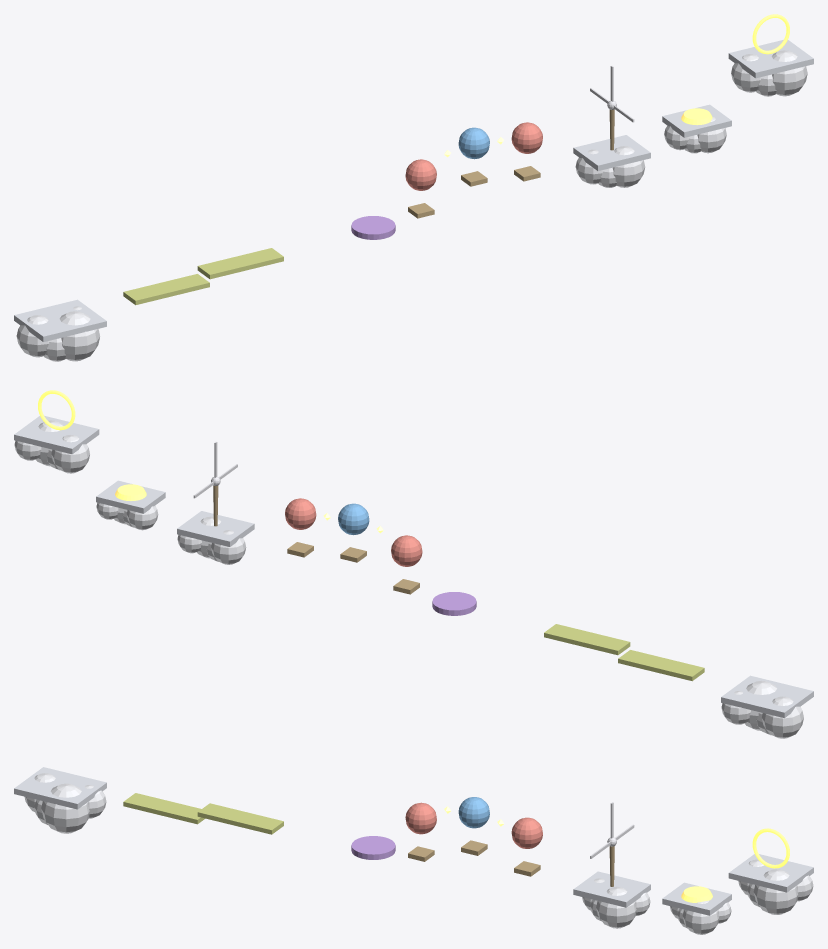
File: himmelspfad_stage.glb
3 renders of one model, top to bottom at view 1: azimuth 30°, elevation 25°; view 2: azimuth 150°, elevation 25°; view 3: azimuth 330°, elevation 25°, orthographic.
Parts seen in each view (by area): view 1: SkyStartBlob, SkyZielBlob, SkyStart, SkyZiel, SkyWindBlob, SkyWind, SkyKarussell1, SkyKarussell2, SkyPadBlob, SkyBallon2, SkyBallon1, SkyBallon3 (+2 smaller); view 2: SkyStartBlob, SkyStart, SkyZiel, SkyZielBlob, SkyWind, SkyWindBlob, SkyKarussell1, SkyKarussell2, SkyBallon2, SkyBallon3, SkyBallon1, SkyPad (+2 smaller); view 3: SkyStartBlob, SkyStart, SkyZielBlob, SkyZiel, SkyWind, SkyWindBlob, SkyKarussell2, SkyKarussell1, SkyBallon1, SkyBallon3, SkyBallon2, SkyPadBlob (+5 smaller).
Boxes of the visible parts, box(x1,y1,x2,y2) form: SkyStartBlob: box(16, 306, 100, 361); SkyZielBlob: box(731, 50, 807, 96); SkyStart: box(14, 299, 106, 341); SkyZiel: box(728, 39, 813, 78); SkyWindBlob: box(575, 146, 645, 187); SkyWind: box(573, 135, 650, 170); SkyKarussell1: box(123, 274, 209, 305); SkyKarussell2: box(197, 248, 283, 279); SkyPadBlob: box(664, 116, 726, 153); SkyBallon2: box(458, 127, 489, 186); SkyBallon1: box(405, 159, 436, 218); SkyBallon3: box(511, 122, 542, 181); SkyStartBlob: box(721, 680, 803, 738); SkyStart: box(721, 675, 813, 717); SkyZiel: box(14, 415, 99, 454); SkyZielBlob: box(14, 420, 89, 473); SkyWind: box(177, 511, 254, 546); SkyWindBlob: box(177, 516, 246, 564); SkyKarussell1: box(618, 650, 704, 681); SkyKarussell2: box(544, 624, 630, 655); SkyBallon2: box(338, 503, 369, 562); SkyBallon3: box(285, 498, 316, 557); SkyBallon1: box(391, 535, 422, 594); SkyPad: box(96, 480, 165, 513); SkyStartBlob: box(24, 773, 106, 833); SkyStart: box(14, 767, 106, 809); SkyZielBlob: box(738, 859, 813, 914); SkyZiel: box(728, 854, 813, 892); SkyWind: box(573, 871, 650, 907); SkyWindBlob: box(582, 878, 650, 928); SkyKarussell2: box(197, 803, 283, 834); SkyKarussell1: box(123, 793, 205, 824); SkyBallon1: box(405, 802, 436, 861); SkyBallon3: box(511, 817, 542, 876); SkyBallon2: box(458, 797, 489, 855); SkyPadBlob: box(670, 900, 731, 934).
Bounding box in the file's own units: 73.79 × 15.32 × 7.
